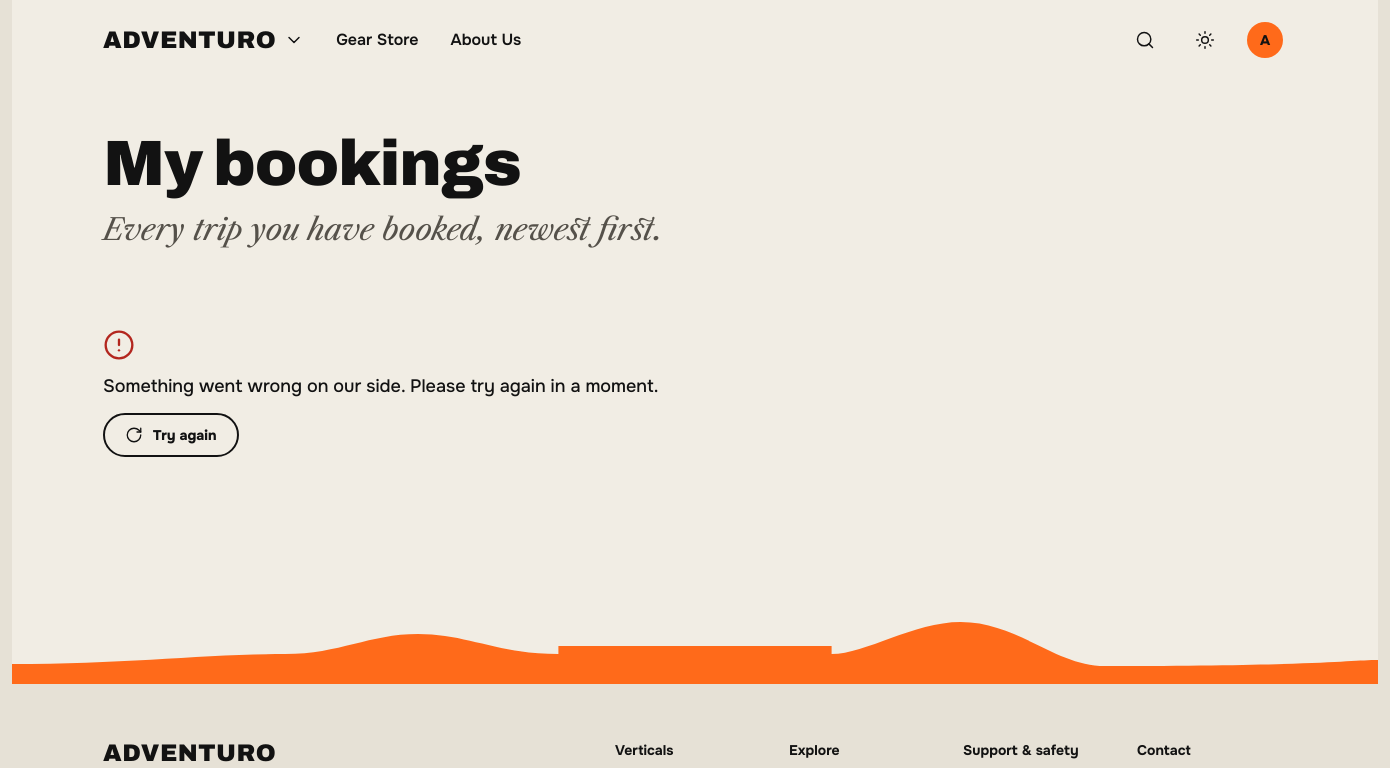
Test: MyBookingsPage › shows an error with a retry when the list fails to load
Expected: the heading "My bookings" is shown, [103,129,521,198]
Expected: the message shows "Something went wrong on our side.", [103,375,658,397]
Click the button "Try again".
click(171, 435)  # box [103,413,238,457]
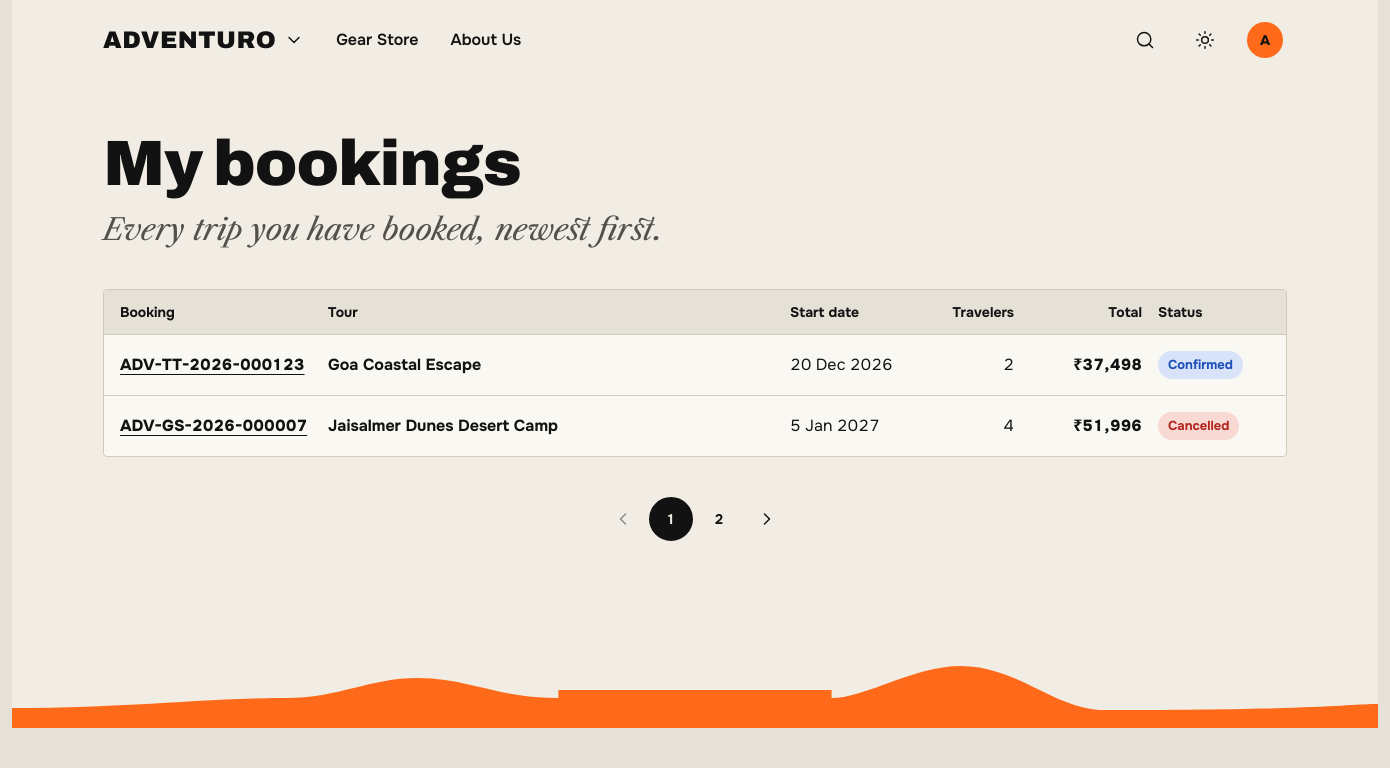
Expected: the link "ADV-TT-2026-000123" is shown, [120,352,312,377]
